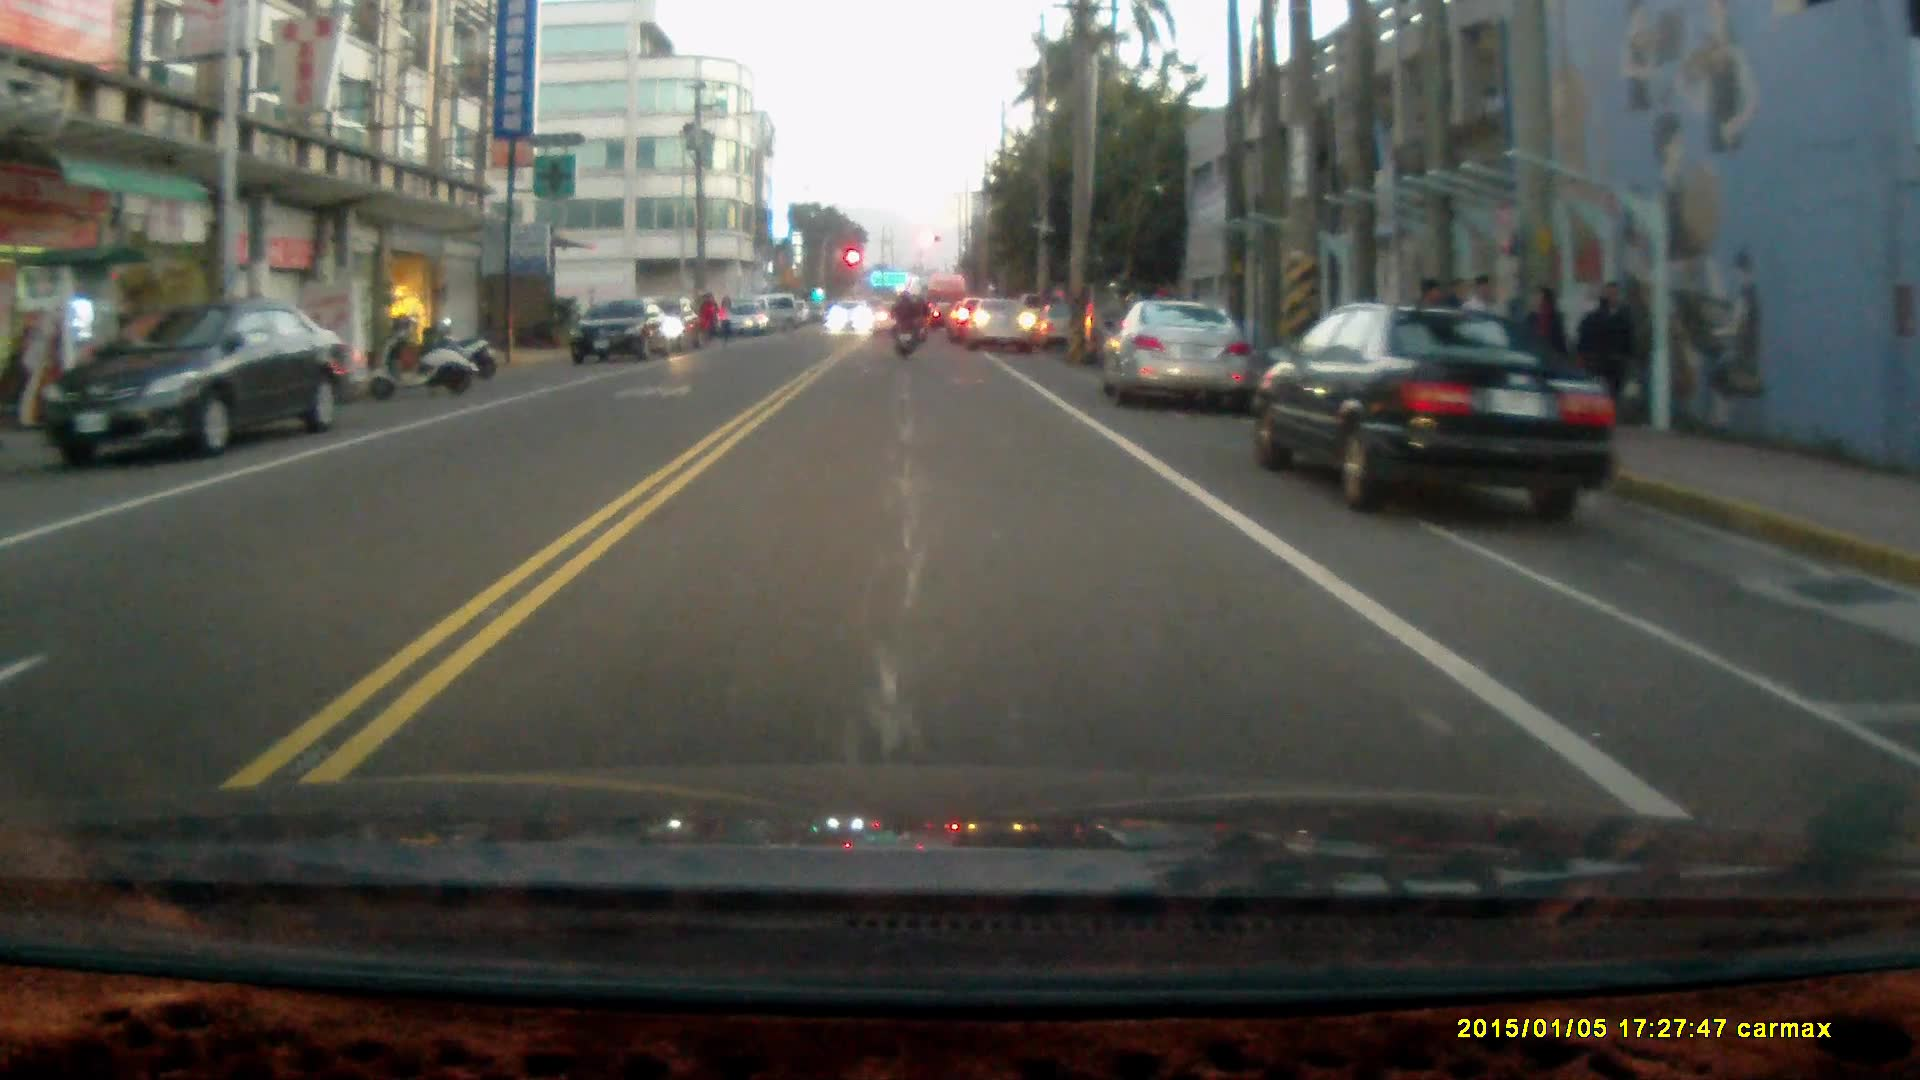pedestrian: (1581, 277, 1641, 421), (1517, 284, 1571, 402)
rider: (888, 285, 920, 360)
vehicle: (1244, 299, 1628, 514), (51, 303, 343, 461), (1104, 300, 1254, 412), (571, 299, 679, 366), (970, 298, 1036, 349)
